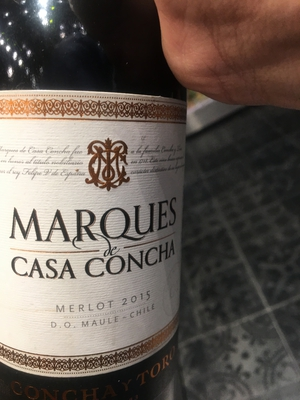marques de casa concha merlot: (1, 11, 197, 381)
